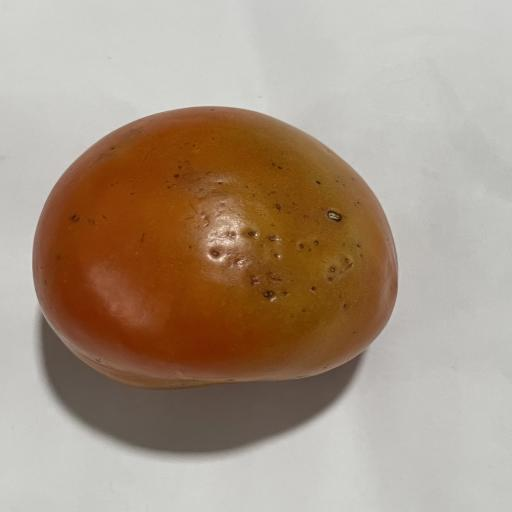overipe: (33, 106, 397, 389)
